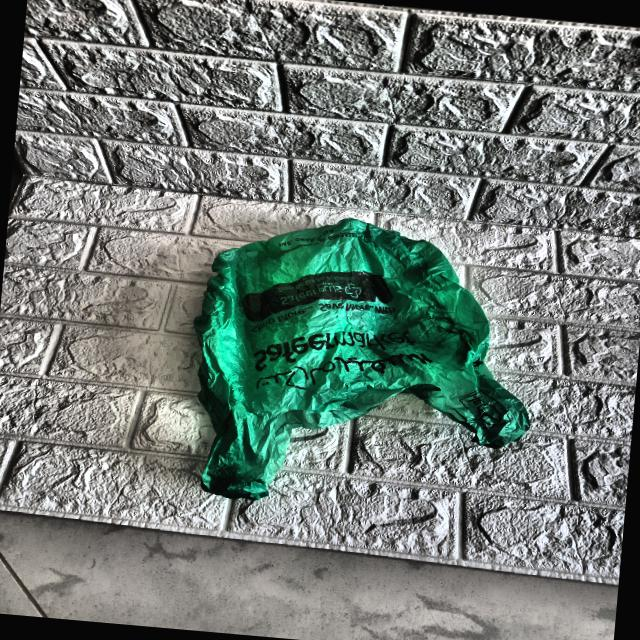plastic bag: (177, 200, 548, 524)
